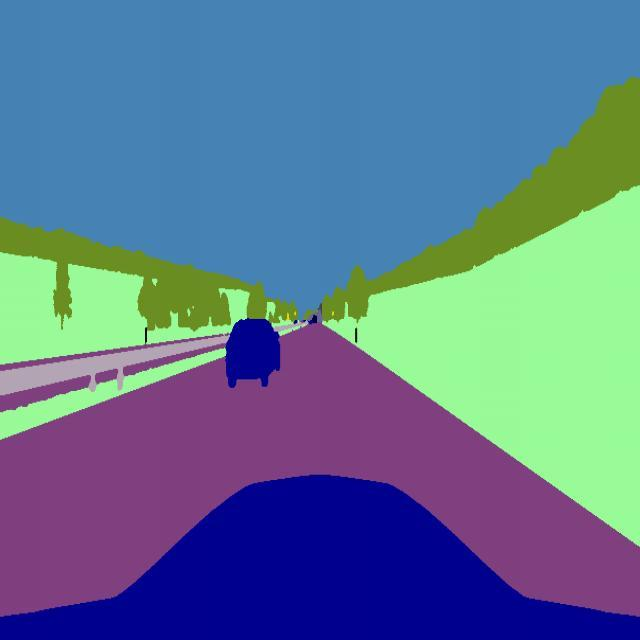safe: (224, 312, 284, 389)
